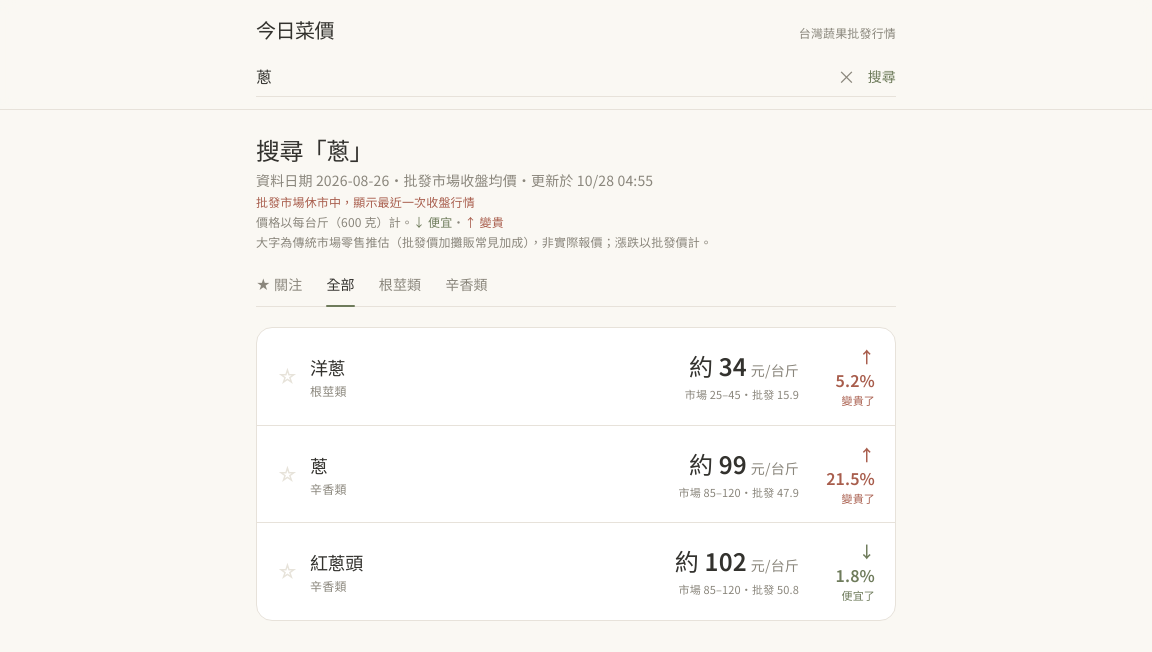
it: App — deep links › clears a linked search from the box, the board and the URL together
The image size is (1152, 652).
Expected: the heading "搜尋「蔥」" is shown, [256,132,373,167]
Click the button named "清除搜尋".
click(847, 76)  # box [838,67,856,85]
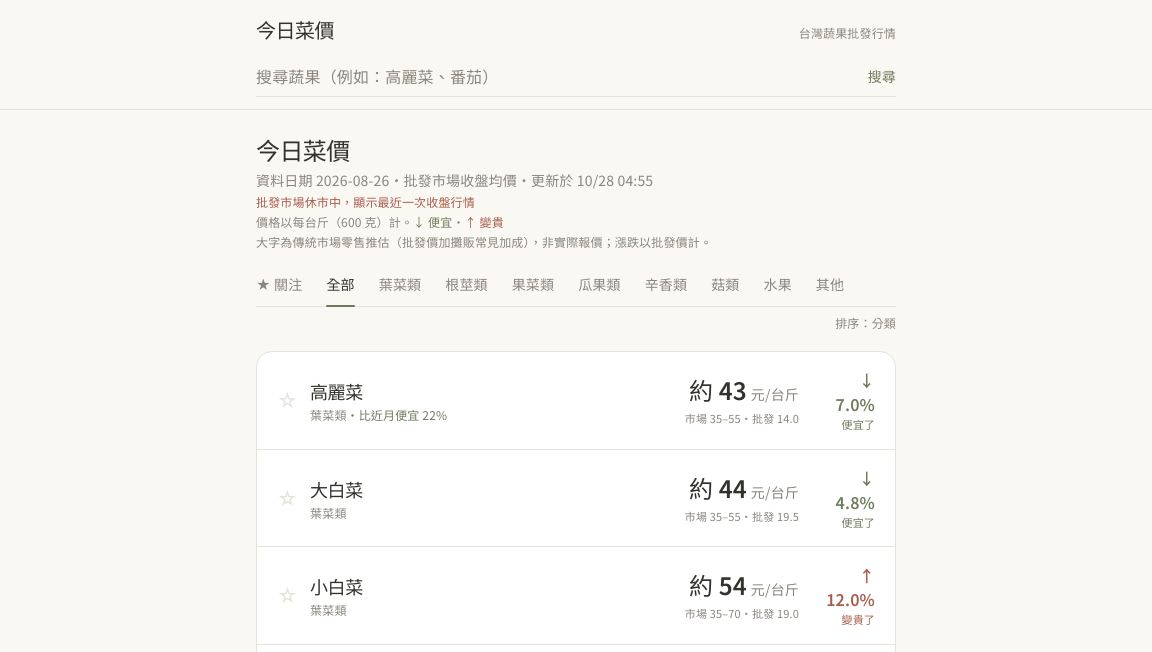
Expected: the element with test id "produce-list" shows "高麗菜", [310,378,363,404]
Expected: the search field with placeholder "搜尋蔬果（例如：高麗菜、番茄）" is empty, [256,56,856,96]
